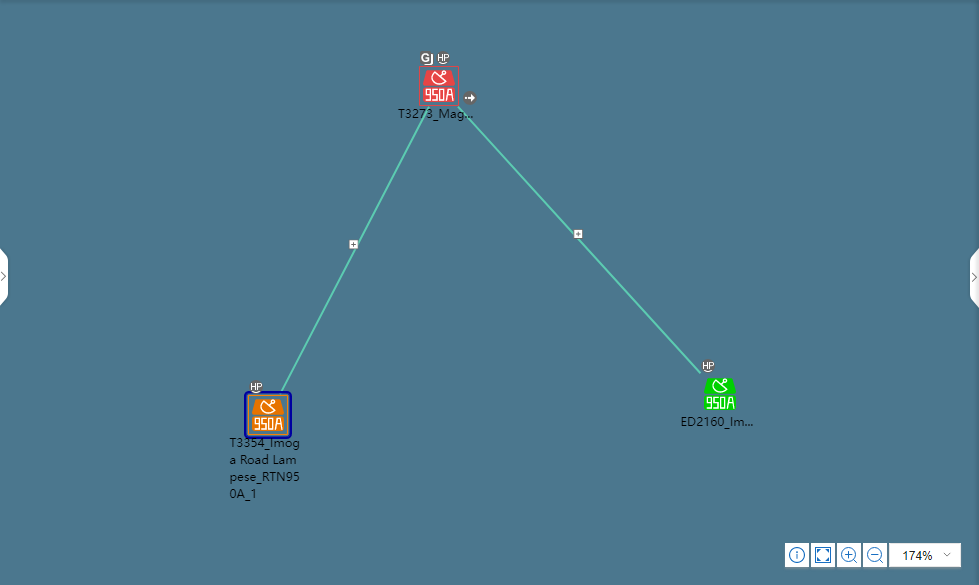Link_Blue: (456, 106, 702, 380), (278, 106, 427, 389)
RTN_Green: (707, 381, 734, 410)
RTN_Orange: (248, 400, 289, 433)
RTN_Red: (419, 69, 460, 101)
